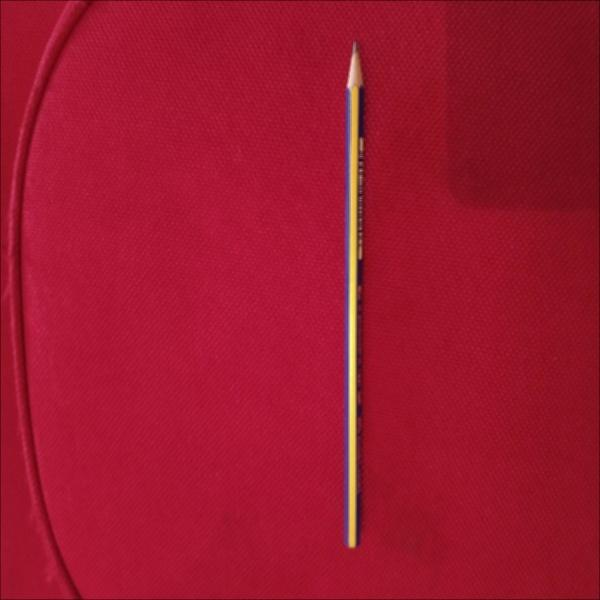pencil: (336, 38, 382, 552)
